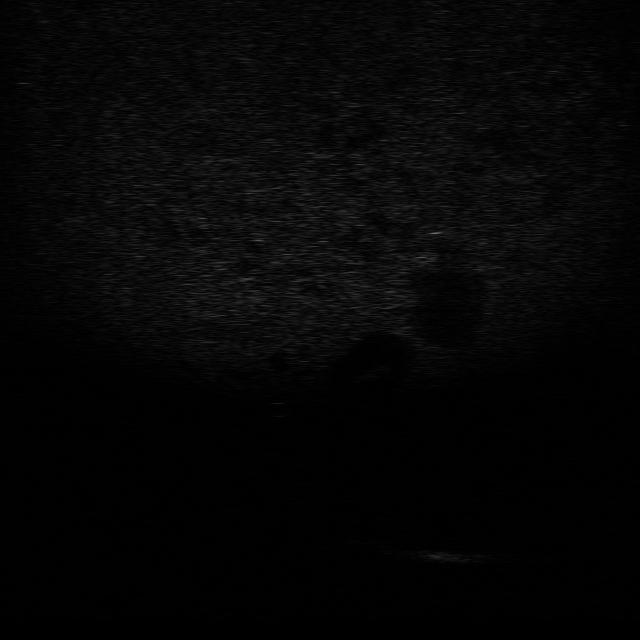ball: (258, 398, 294, 419)
metal bucket: (401, 542, 499, 568)
tyre: (340, 510, 412, 546)
